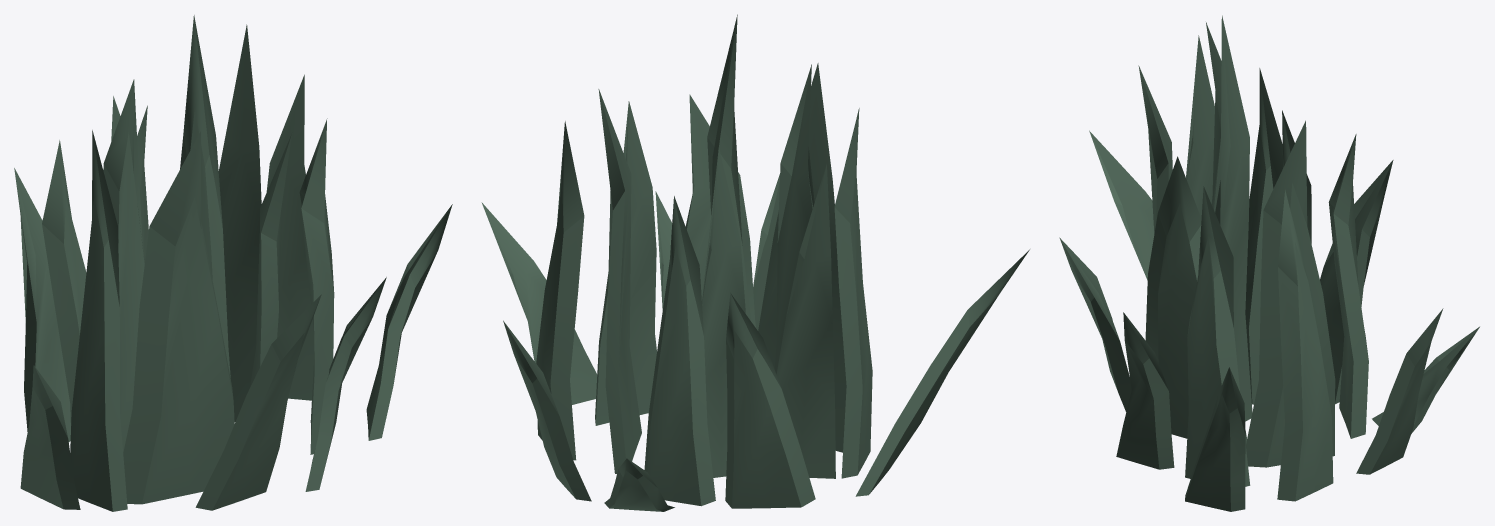
The model's file is Grass.fbx.
The picture shows the model from 3 angles, left to right: view 1: azimuth 30°, elevation 25°; view 2: azimuth 150°, elevation 25°; view 3: azimuth 270°, elevation 25°; orthographic projection. The views are drawn at different scales.
Parts seen in each view (by area): view 1: Grass; view 2: Grass; view 3: Grass.
Part boxes in pixels (left/top/right/bottom): Grass: left=14, top=15, right=452, bottom=511; Grass: left=481, top=14, right=1029, bottom=511; Grass: left=1059, top=15, right=1479, bottom=511.
Size of the model in its own units: 5.38 by 4.66 by 4.32.
